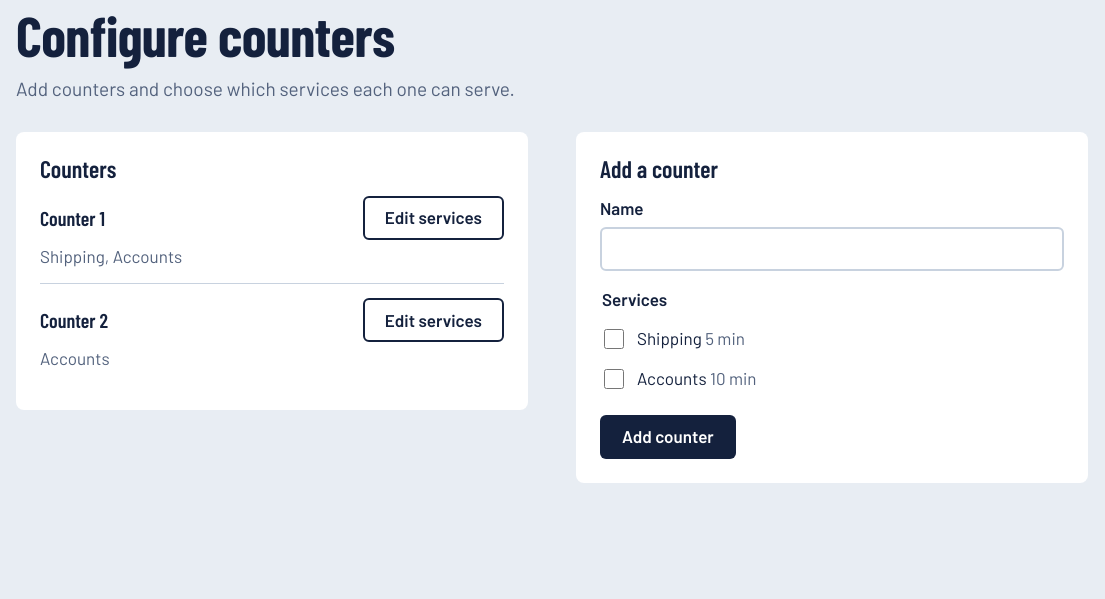
Test: Config counters › adds a counter with the chosen services
The width and height of the screenshot is (1105, 599).
Type "  Counter 3 " into the field labelled "Name" at [832, 249], box [600,227,1064,271]
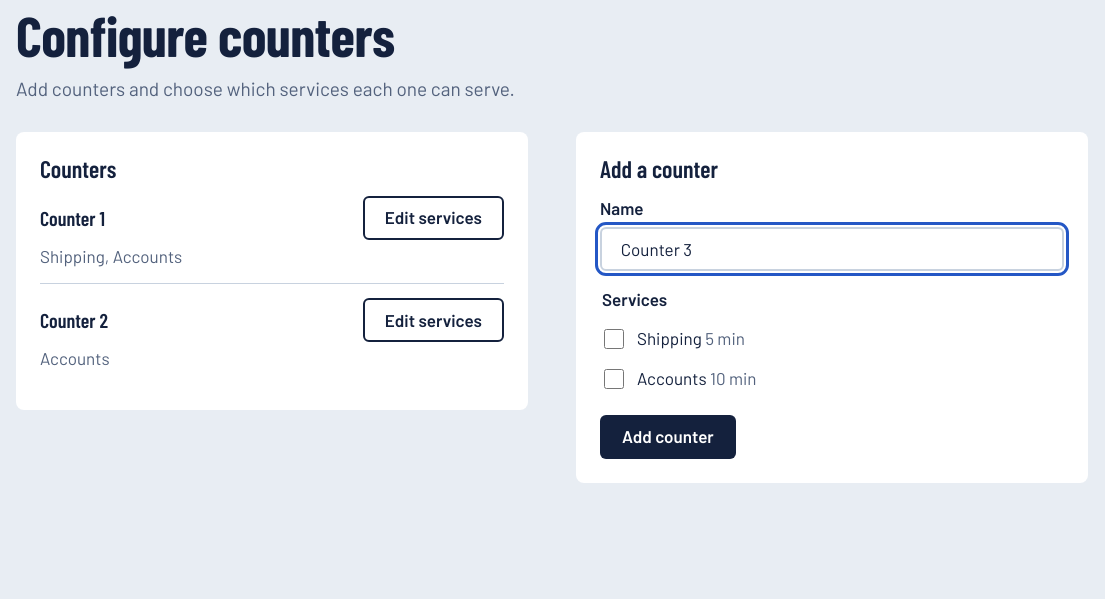
Click the checkbox labelled "Shipping 5 min" at [614, 339], box [604,329,624,349]
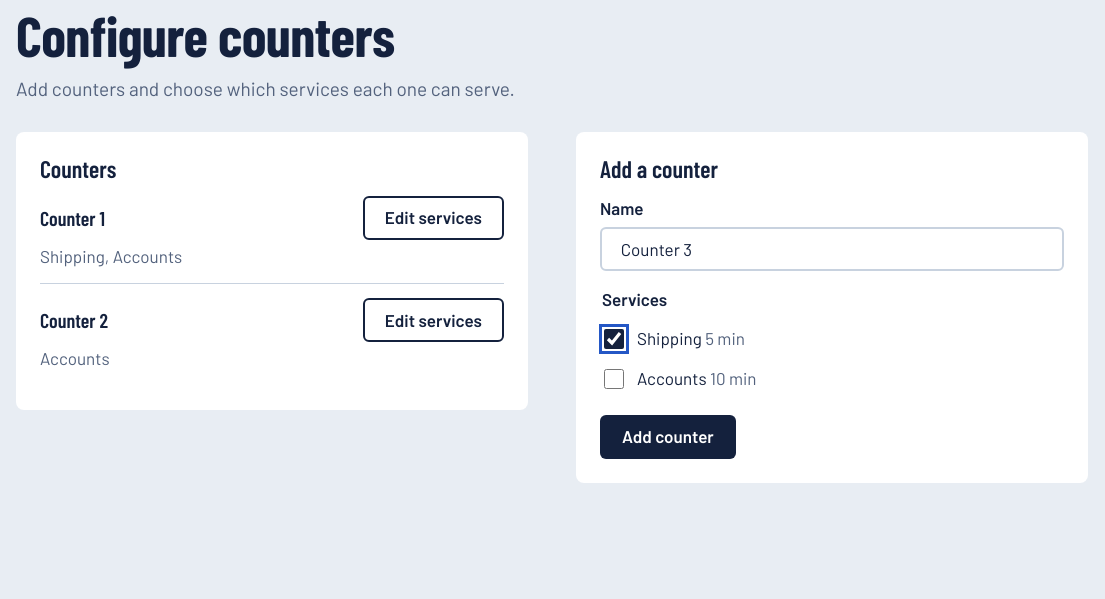
Click the button "Add counter" at [668, 437], box [600,415,736,459]
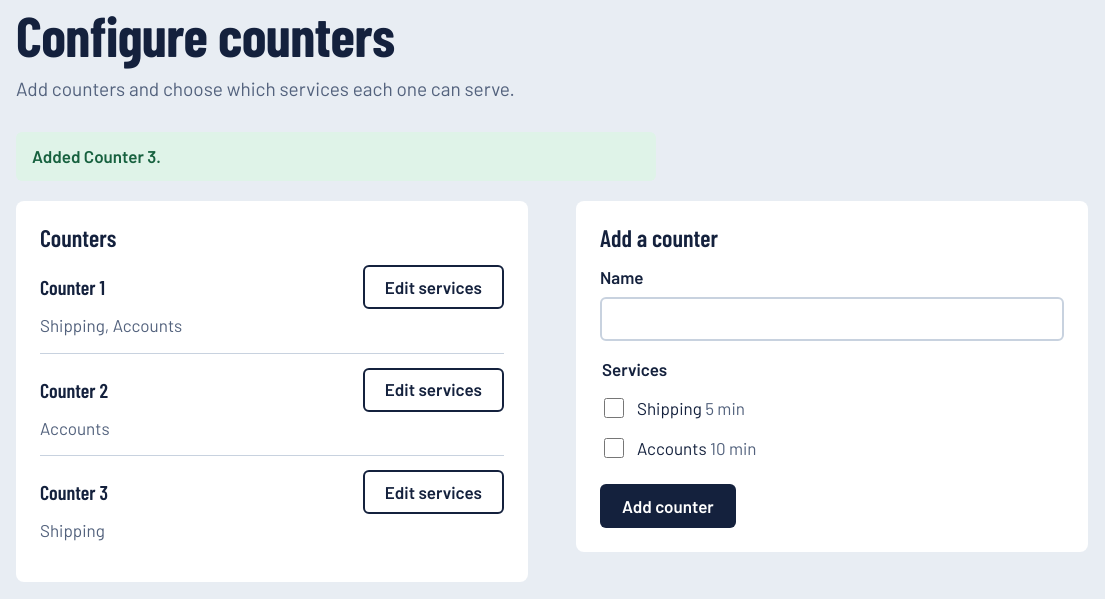
Expected: the heading "Counter 3" is shown, [40,480,108,504]
Expected: the text "Added Counter 3." is shown, [16,132,656,181]
